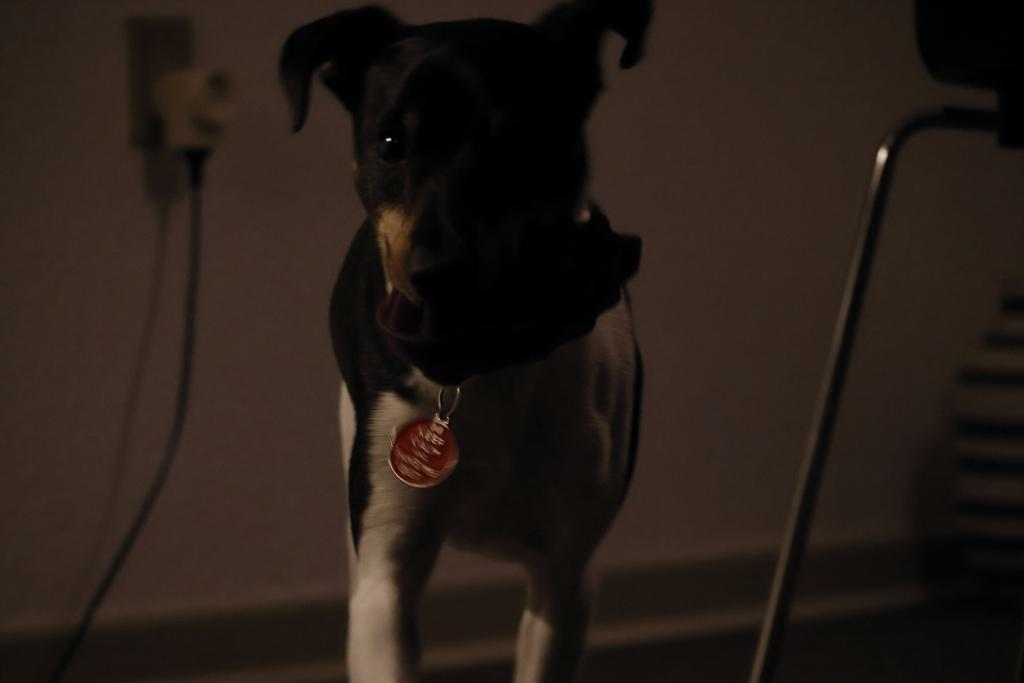Dog: (267, 0, 681, 683)
